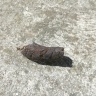Dog: (22, 42, 74, 66)
